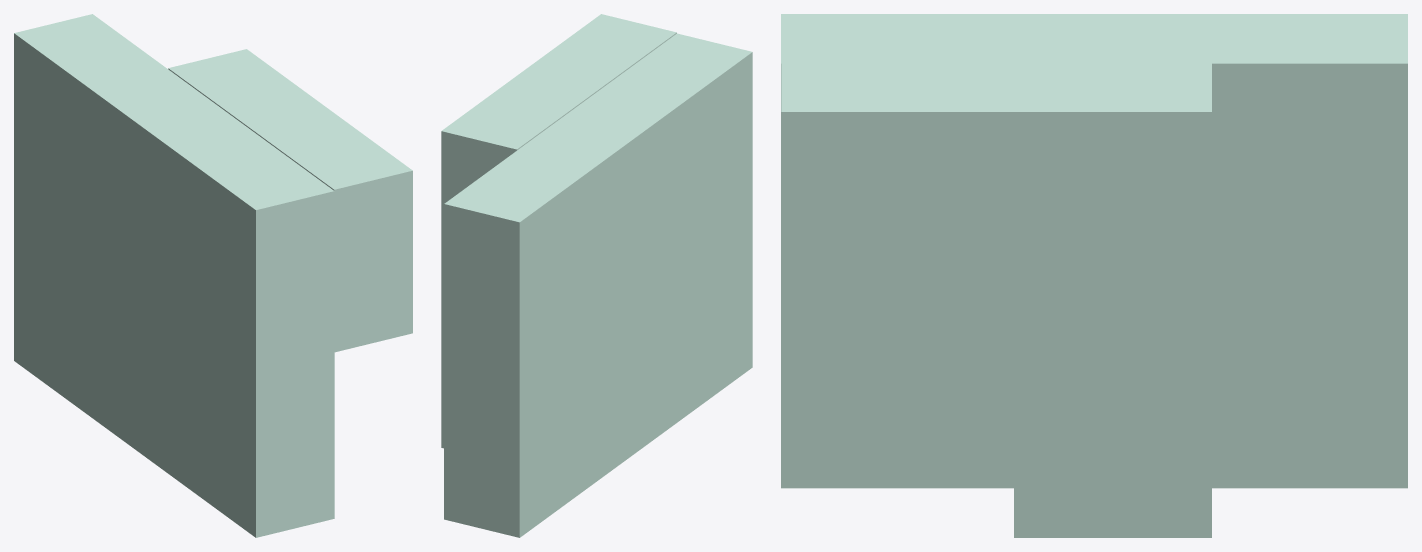
3 views of the same model, side by side, from view 1: azimuth 30°, elevation 25°; view 2: azimuth 150°, elevation 25°; view 3: azimuth 270°, elevation 25° (orthographic). The views are drawn at different scales.
Parts seen in each view (by area): view 1: Renderer Node; view 2: Renderer Node; view 3: Renderer Node.
Boxes of the visible parts, bbox=[...] form: Renderer Node: bbox=[14, 14, 412, 537]; Renderer Node: bbox=[441, 14, 752, 537]; Renderer Node: bbox=[781, 14, 1407, 537].
Bounding box in the file's own units: 0.375 × 0.75 × 1.
